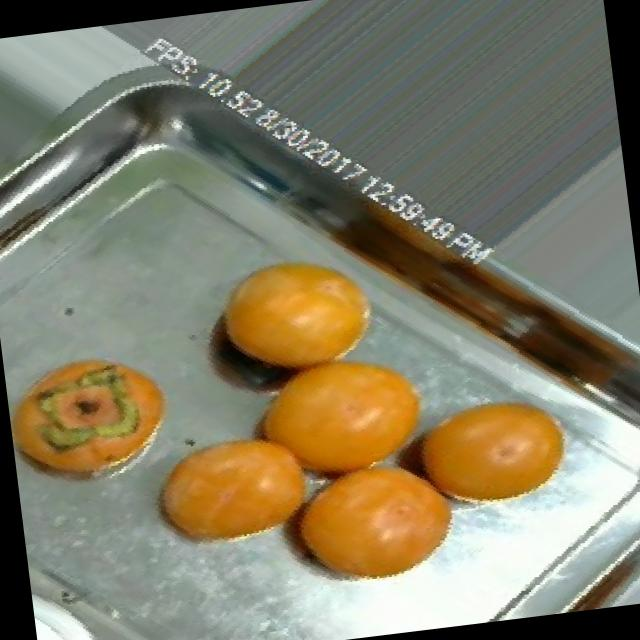Fruit: (246, 430, 488, 616), (176, 222, 412, 412), (115, 396, 349, 584), (378, 363, 606, 544), (1, 328, 196, 512)
